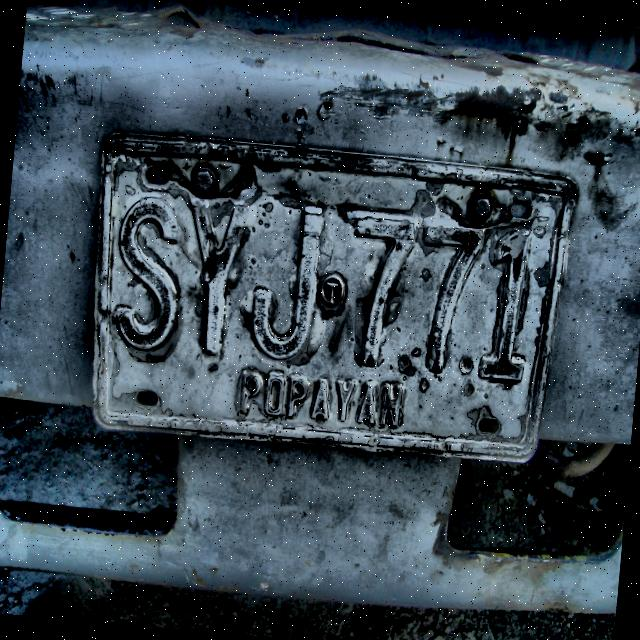plate: (91, 130, 574, 462)
